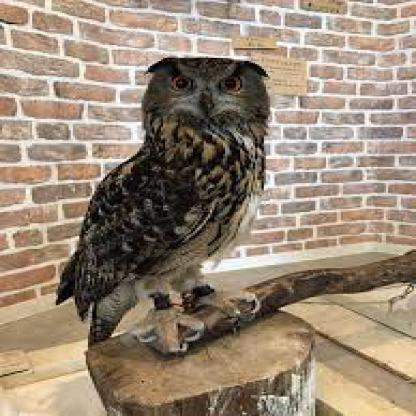owl: (75, 13, 296, 414)
